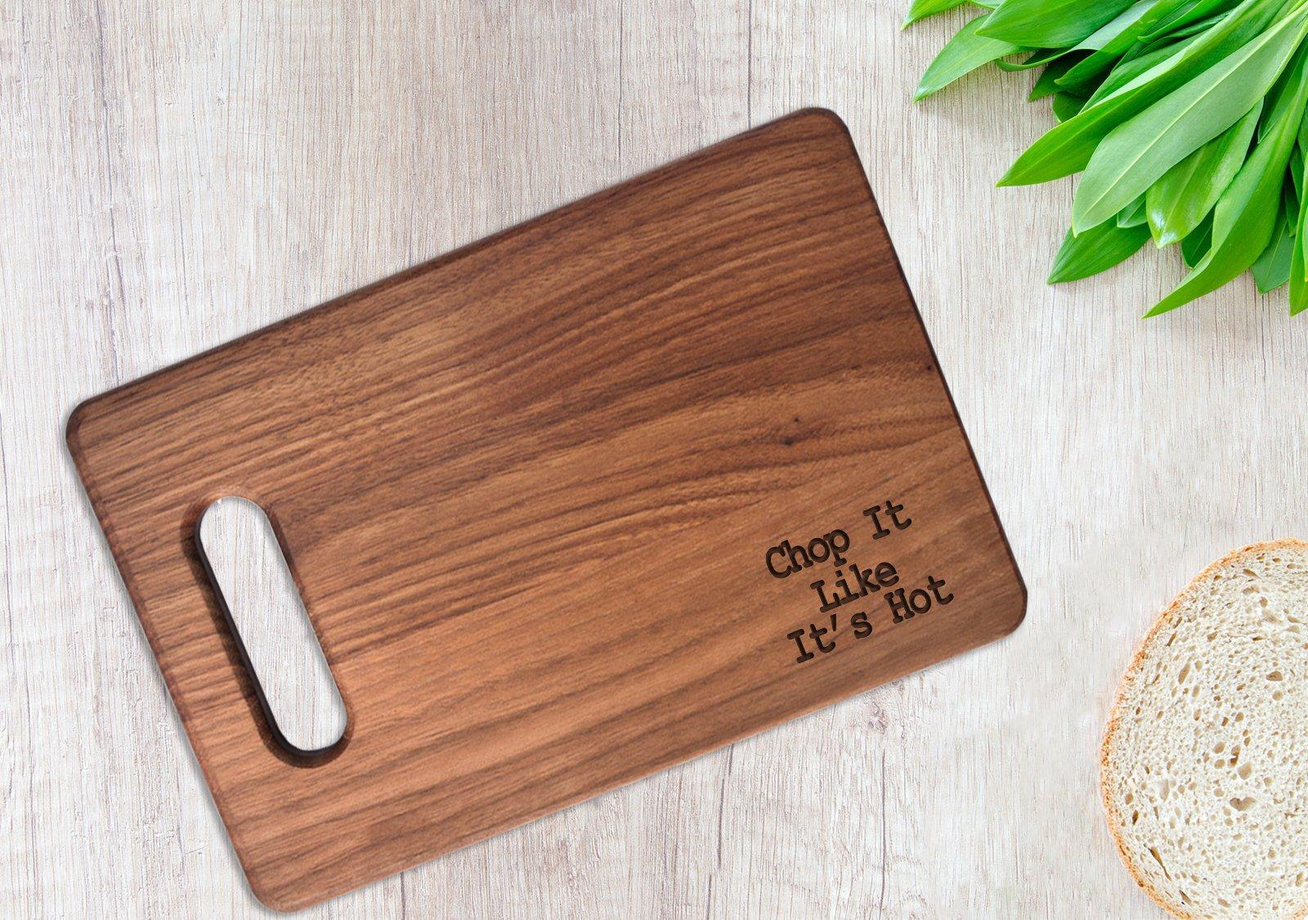gloved_hand: (43, 99, 1034, 920)
